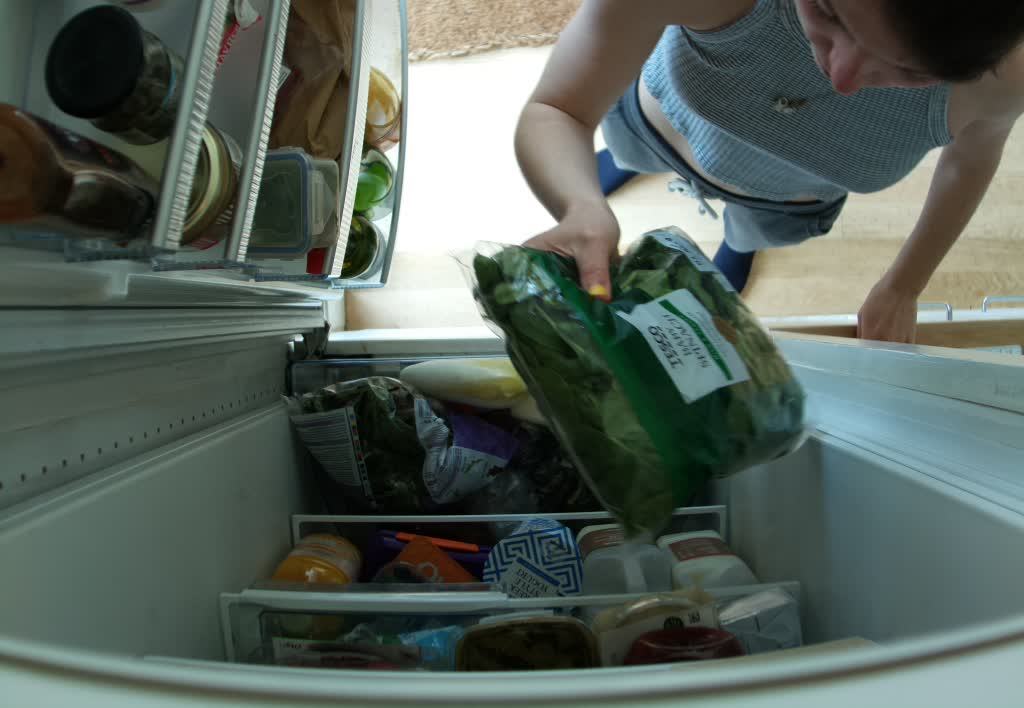salad: (473, 224, 803, 543), (282, 375, 522, 515), (398, 354, 536, 415)
